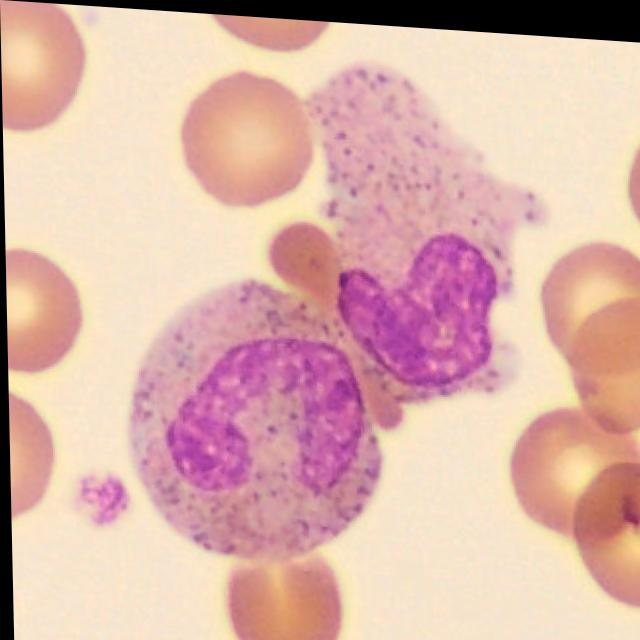Neutrofilo segmentado: (125, 277, 420, 562), (304, 60, 542, 393)
